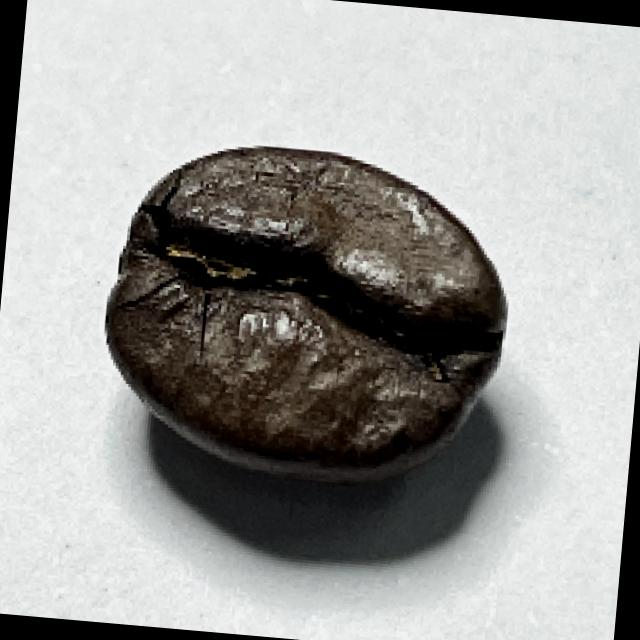bean: (88, 133, 519, 494)
